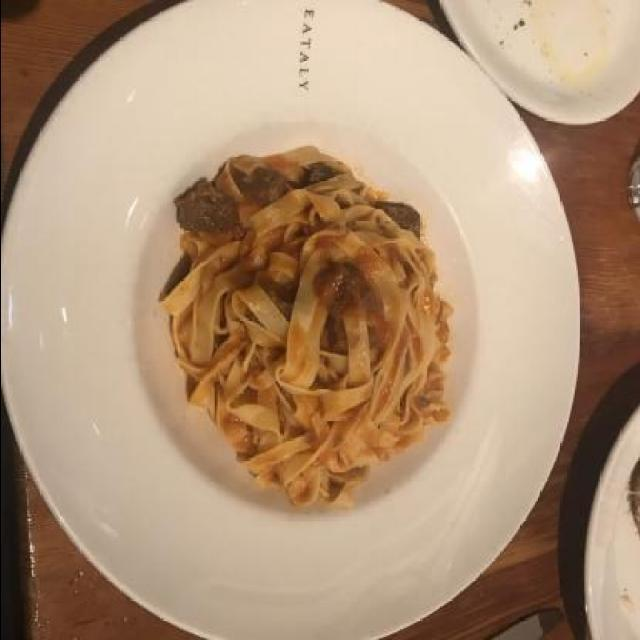Pasta al ragu: (164, 110, 502, 504)
